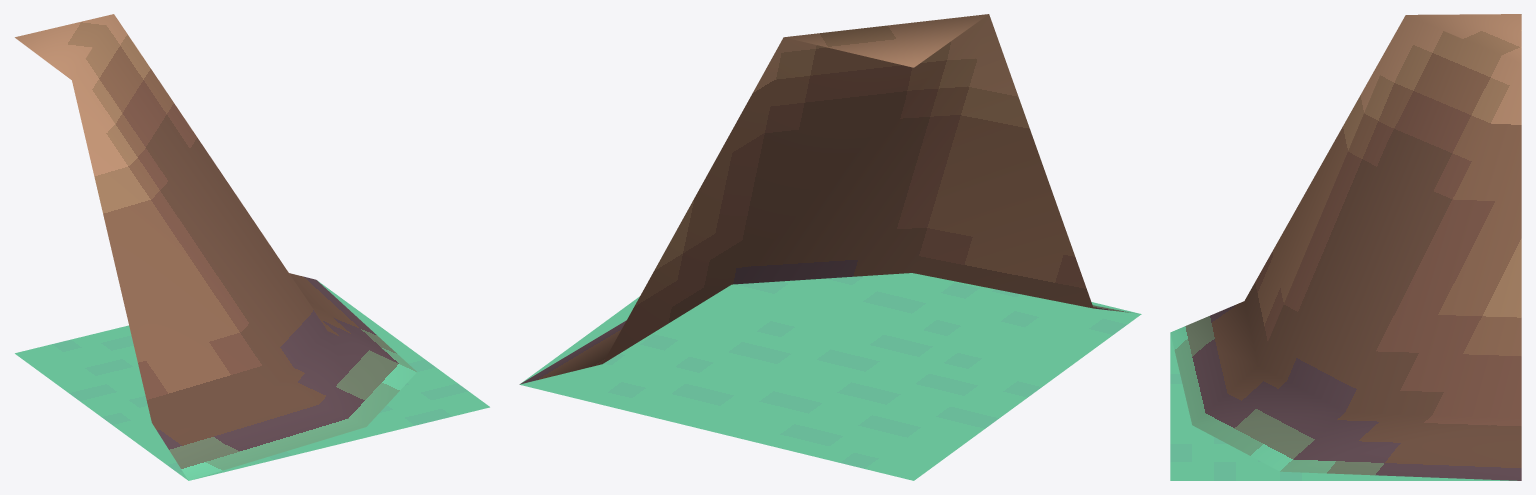
The model's file is cliffCornerOut_herba.obj.
3 renders of one model, left to right at view 1: azimuth 30°, elevation 25°; view 2: azimuth 150°, elevation 25°; view 3: azimuth 270°, elevation 25°, orthographic. The views are drawn at different scales.
Visible parts, largest first — view 1: polygon6.002, polygon17.001; view 2: polygon6.002, polygon17.001; view 3: polygon6.002, polygon17.001.
Boxes of the visible parts, <box> form: polygon6.002: <box>15,14,416,480</box>; polygon17.001: <box>15,281,489,480</box>; polygon6.002: <box>519,14,1139,384</box>; polygon17.001: <box>520,273,1141,480</box>; polygon6.002: <box>1170,14,1521,480</box>; polygon17.001: <box>1170,333,1516,480</box>.
Bounding box in the file's own units: 2 × 2 × 2.
